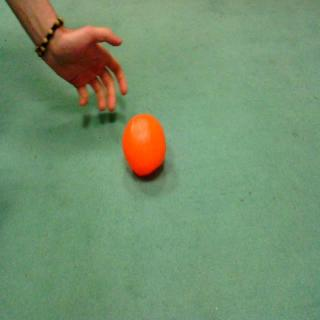orange: (121, 110, 170, 182)
